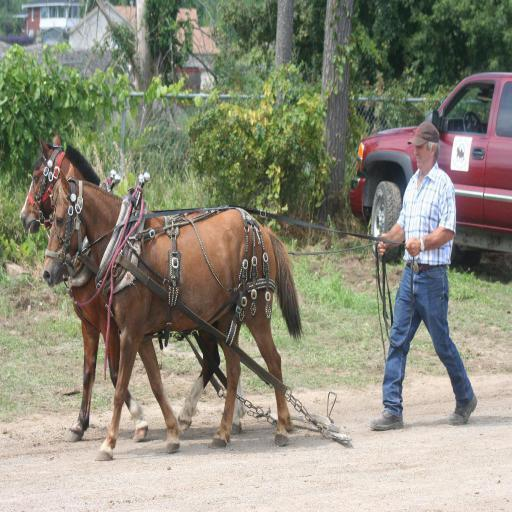horse: (42, 172, 304, 464), (18, 132, 220, 440)
